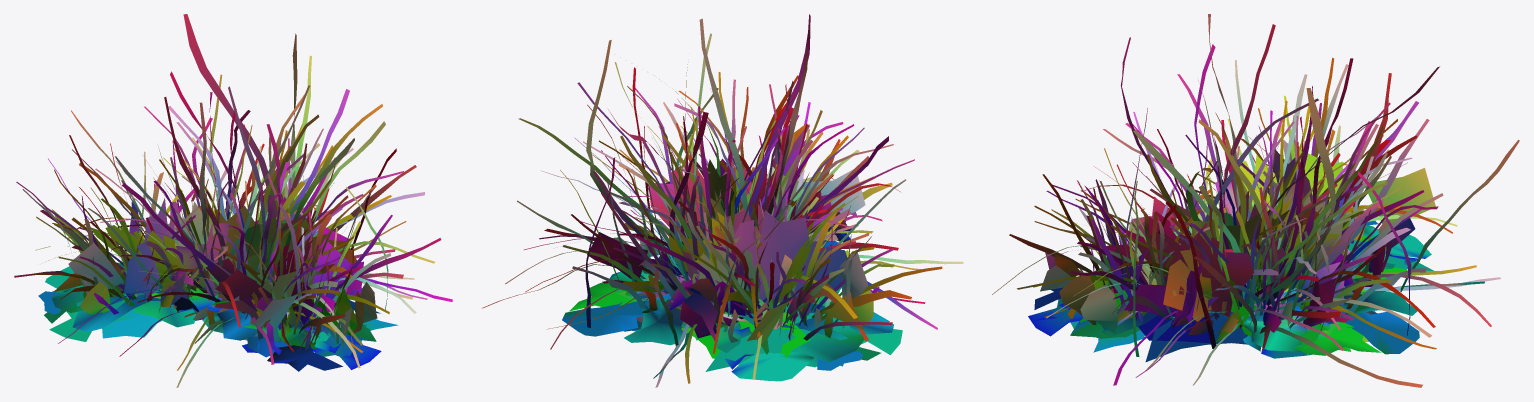
The model's file is Wild_Grass_vdilbaiia_Mid_vdilbaiia_VarJ_LOD0.fbx.
3 views of the same model, side by side, from view 1: azimuth 30°, elevation 25°; view 2: azimuth 150°, elevation 25°; view 3: azimuth 270°, elevation 25° (orthographic). The views are drawn at different scales.
Visible parts, largest first — view 1: _jajy_VarJ_LOD1; view 2: _jajy_VarJ_LOD1; view 3: _jajy_VarJ_LOD1.
Part boxes in pixels (<box>): _jajy_VarJ_LOD1: <box>14,14,452,387</box>; _jajy_VarJ_LOD1: <box>482,14,963,387</box>; _jajy_VarJ_LOD1: <box>992,14,1519,387</box>.
Size of the model in its own units: 106 by 66.72 by 115.
